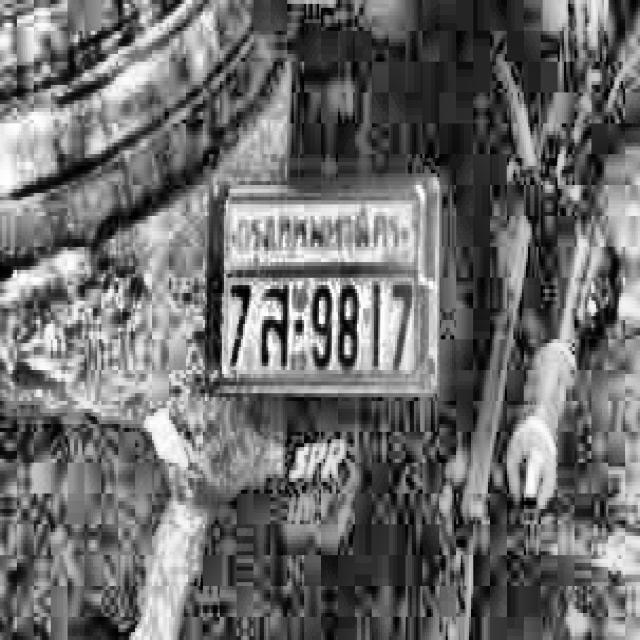license-plate: (201, 163, 449, 407)
